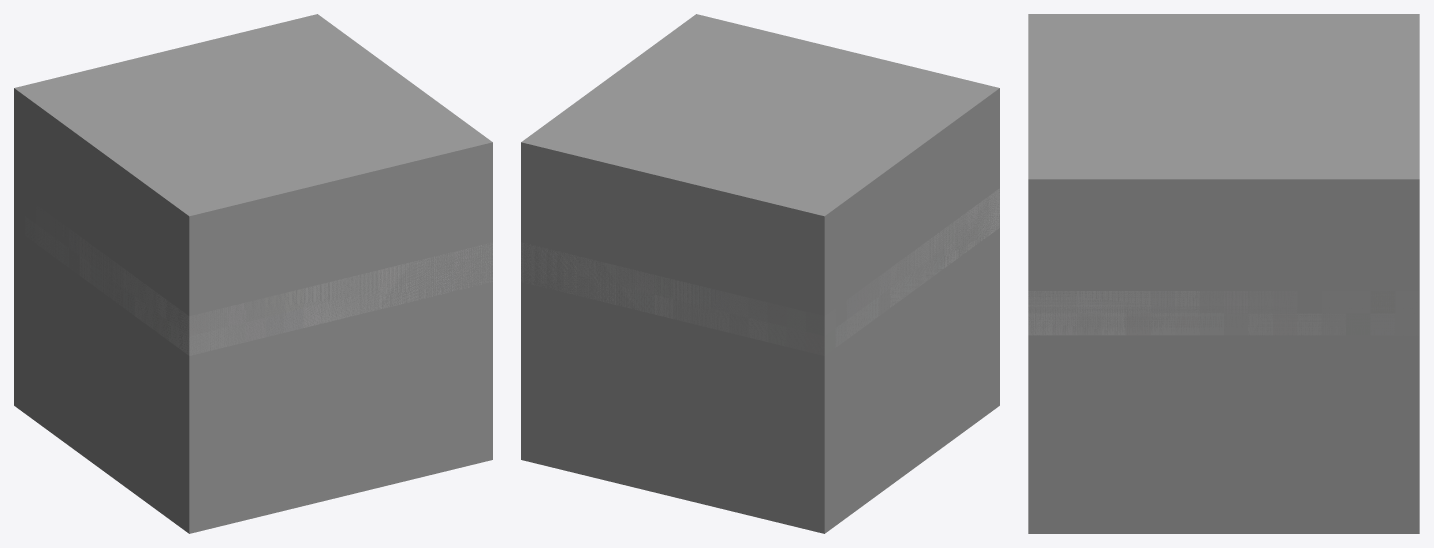
File: smallsolarpannelrot.obj
The picture shows the model from 3 angles, left to right: view 1: azimuth 30°, elevation 25°; view 2: azimuth 150°, elevation 25°; view 3: azimuth 270°, elevation 25°; orthographic projection. The views are drawn at different scales.
Parts seen in each view (by area): view 1: Minecraft_Block_Cube, panel; view 2: Minecraft_Block_Cube, panel; view 3: Minecraft_Block_Cube, panel.
Part boxes in pixels (x1,y1,x2,y2): Minecraft_Block_Cube: (14, 14, 492, 533); panel: (14, 188, 492, 355); Minecraft_Block_Cube: (521, 14, 999, 533); panel: (521, 188, 999, 355); Minecraft_Block_Cube: (1028, 14, 1419, 533); panel: (1028, 291, 1419, 335).
Size of the model in its own units: 1 by 1 by 1.
Materials: 2 (1 with a texture image).
